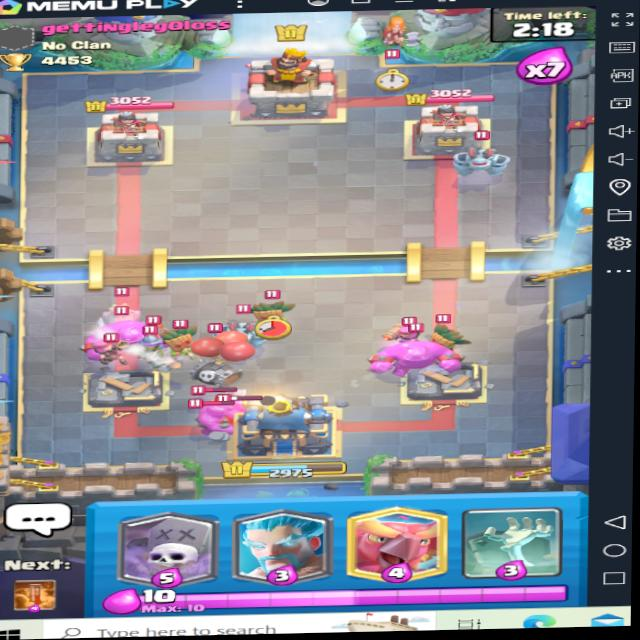dart-goblin: (236, 288, 302, 340), (422, 314, 477, 355), (158, 319, 199, 359)
electro-golem: (360, 323, 475, 378), (75, 306, 178, 354), (221, 390, 268, 433), (192, 393, 229, 438)
firecracker: (375, 314, 427, 347), (92, 332, 130, 365)
mega-minion: (444, 124, 510, 190)
musketeer: (133, 329, 184, 365)
royal-ghost: (84, 283, 155, 328)
skeleton-barrel: (174, 320, 254, 392)
valkyrie: (348, 13, 409, 74)
